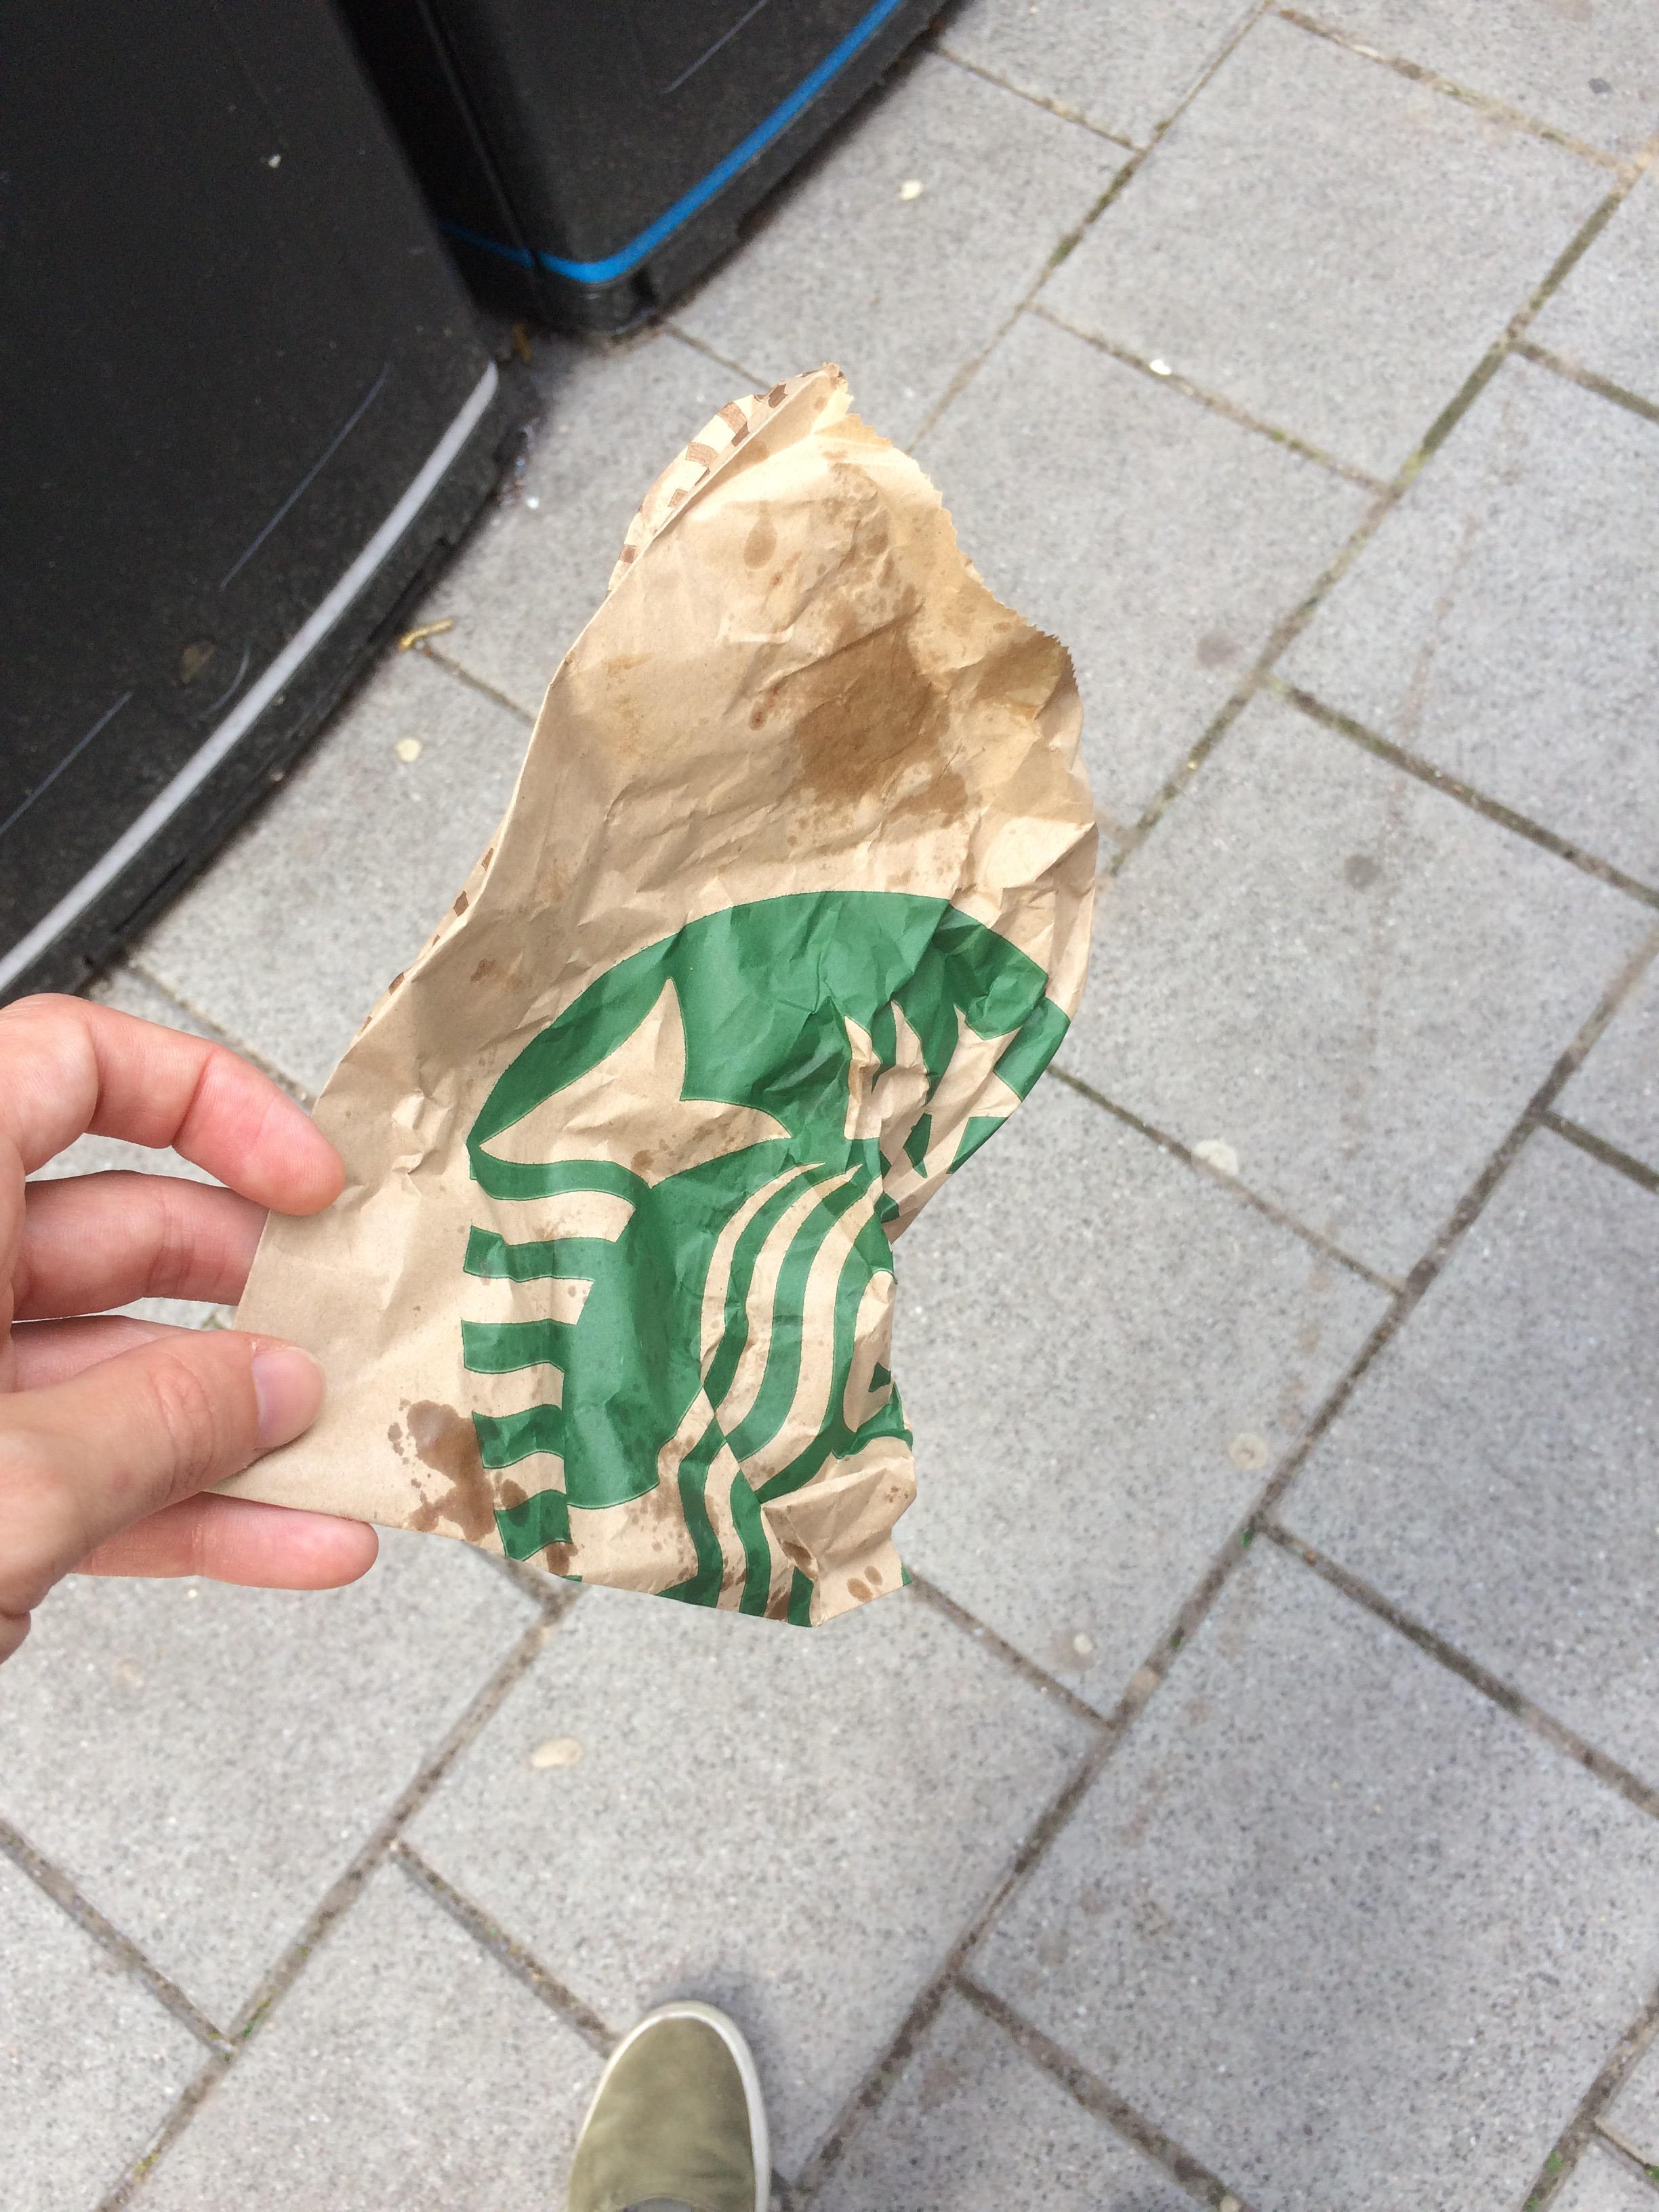Trash: (192, 397, 1133, 1634)
